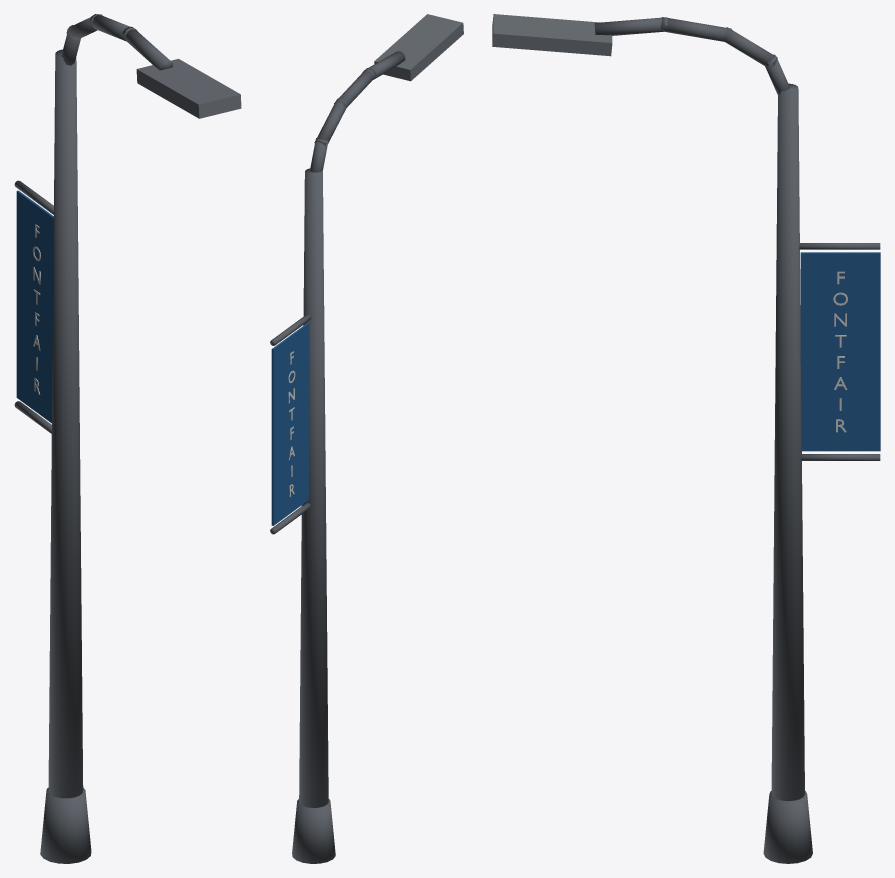
The model's file is lamp_tokyo.glb.
3 views of the same model, side by side, from view 1: azimuth 30°, elevation 25°; view 2: azimuth 150°, elevation 25°; view 3: azimuth 270°, elevation 25° (orthographic). The views are drawn at different scales.
Visible parts, largest first — view 1: body, banner; view 2: body, banner; view 3: body, banner.
Boxes of the visible parts, x1,y1,x2,y2 form: body: [14, 14, 241, 863]; banner: [16, 190, 53, 423]; body: [270, 14, 463, 863]; banner: [271, 323, 309, 525]; body: [492, 14, 880, 863]; banner: [800, 252, 880, 451].
Bounding box in the file's own units: 0.34 × 6.33 × 2.67.
